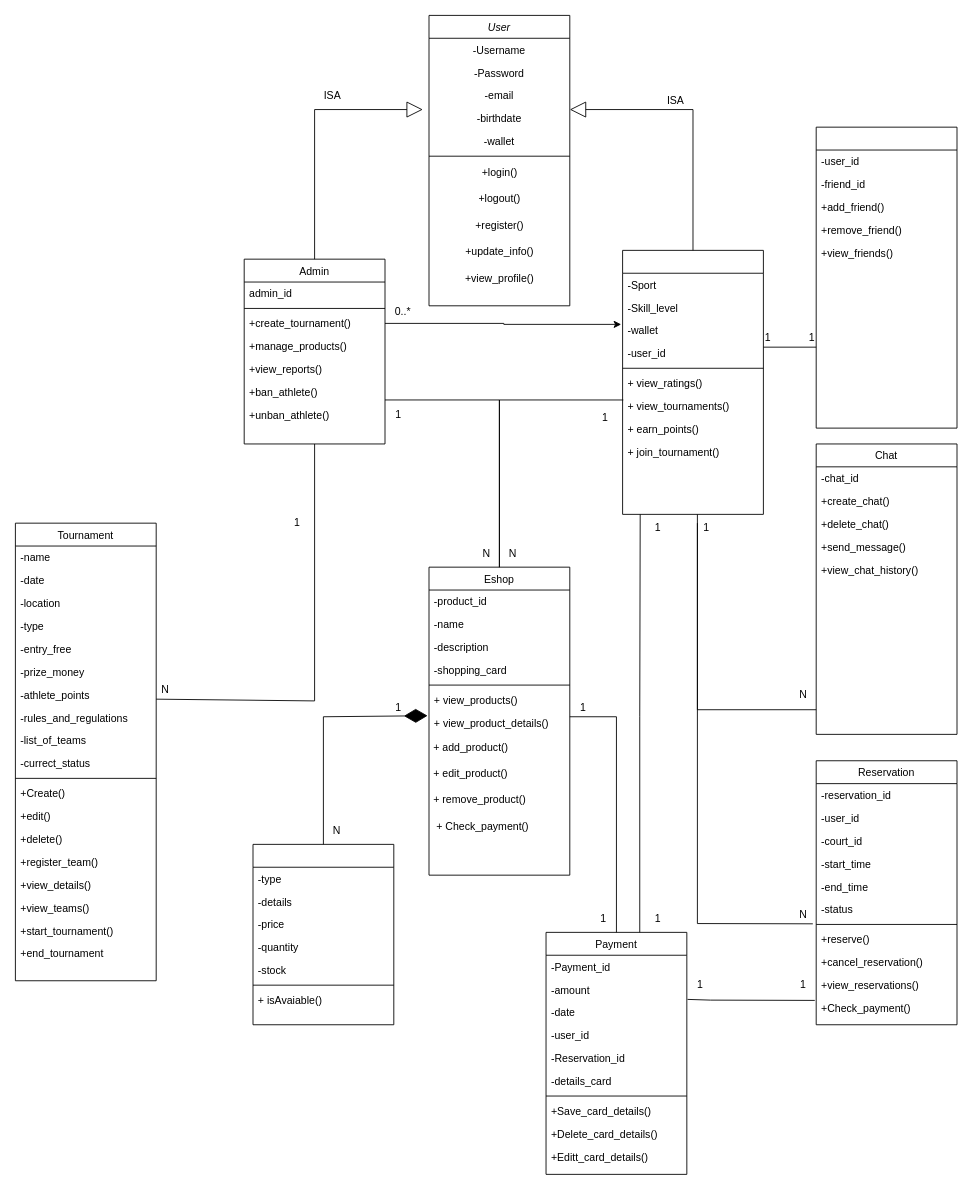
Some shapes in this 972 by 1190 pixel diagram are drawn without their labels. Each missing label, with the box of its shape:
Athlete: (622, 249, 763, 514)
FriendList: (815, 126, 957, 428)
Product: (252, 843, 394, 1025)
